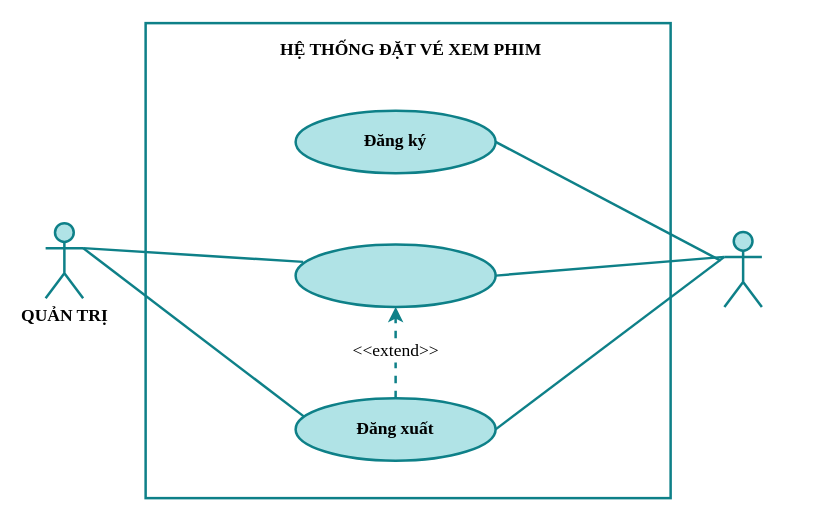
This 823x520 diagram has some shape labels left out. The centre of each missing label's shape, as x and y in pixels:
NGƯỜI DỦNG: the point at 742,269
Đăng nhập: the point at 395,275
